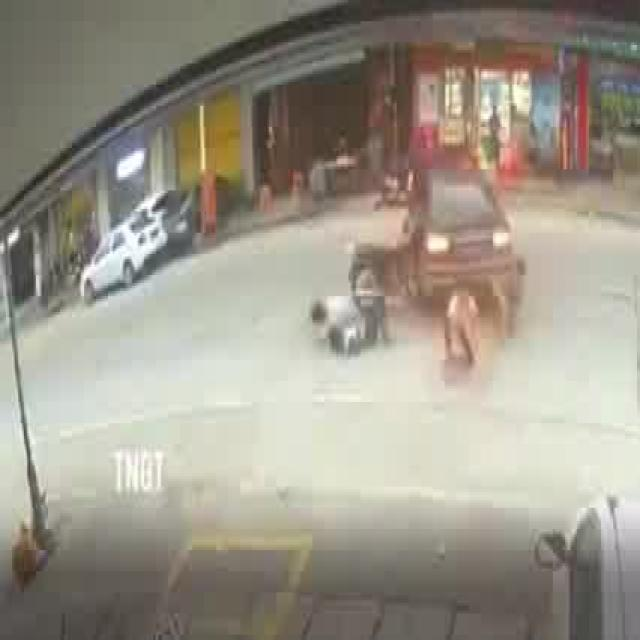multiple_accident: (308, 140, 525, 393)
